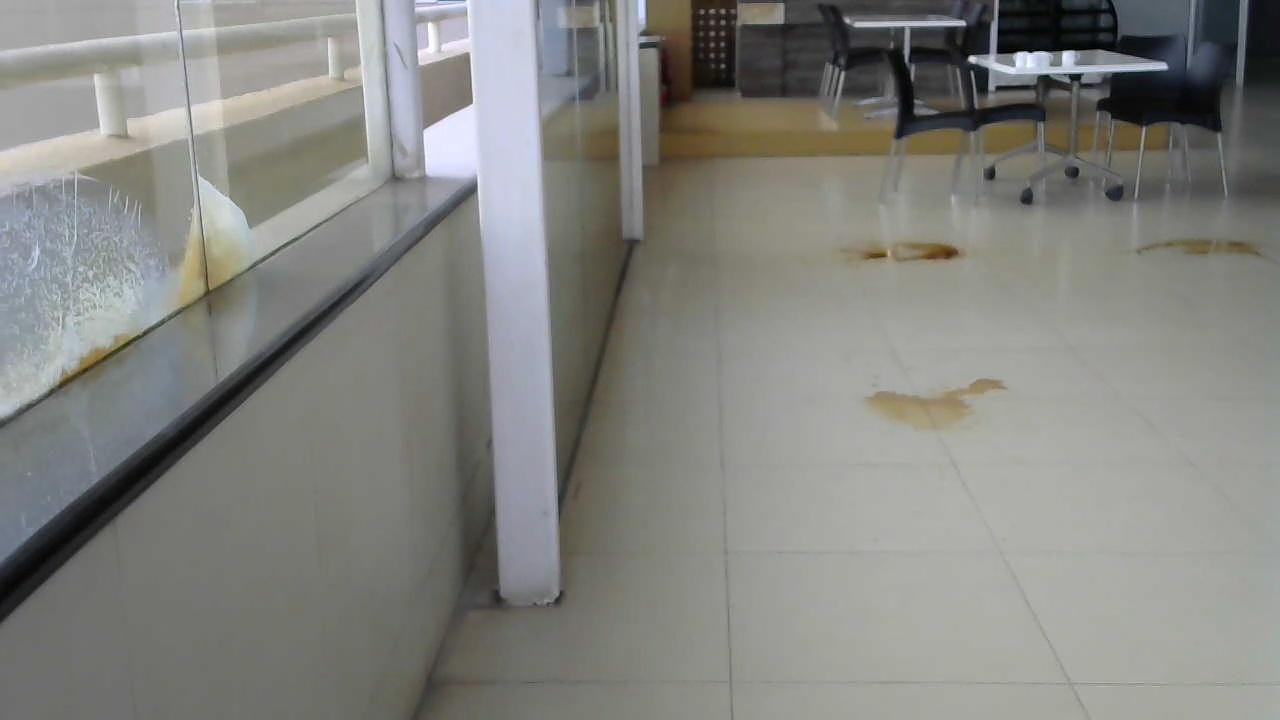dirty_floor: (857, 367, 1013, 432), (1130, 235, 1270, 267), (837, 239, 967, 270)
